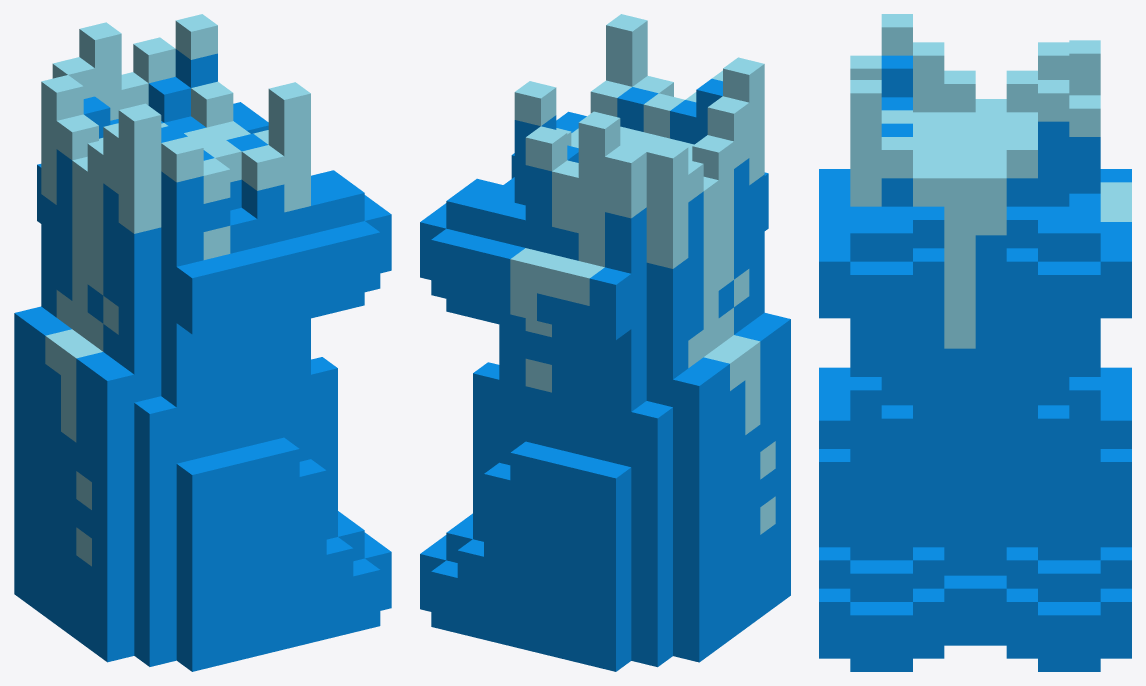
File: oso_azul.obj
The picture shows the model from 3 angles, left to right: view 1: azimuth 30°, elevation 25°; view 2: azimuth 150°, elevation 25°; view 3: azimuth 270°, elevation 25°; orthographic projection. The views are drawn at different scales.
Size of the model in its own units: 1 by 1.9 by 1.
1 material, 1 textured.
